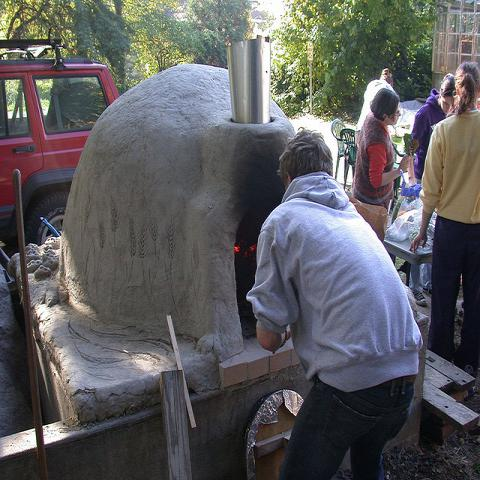car: (0, 41, 121, 239)
